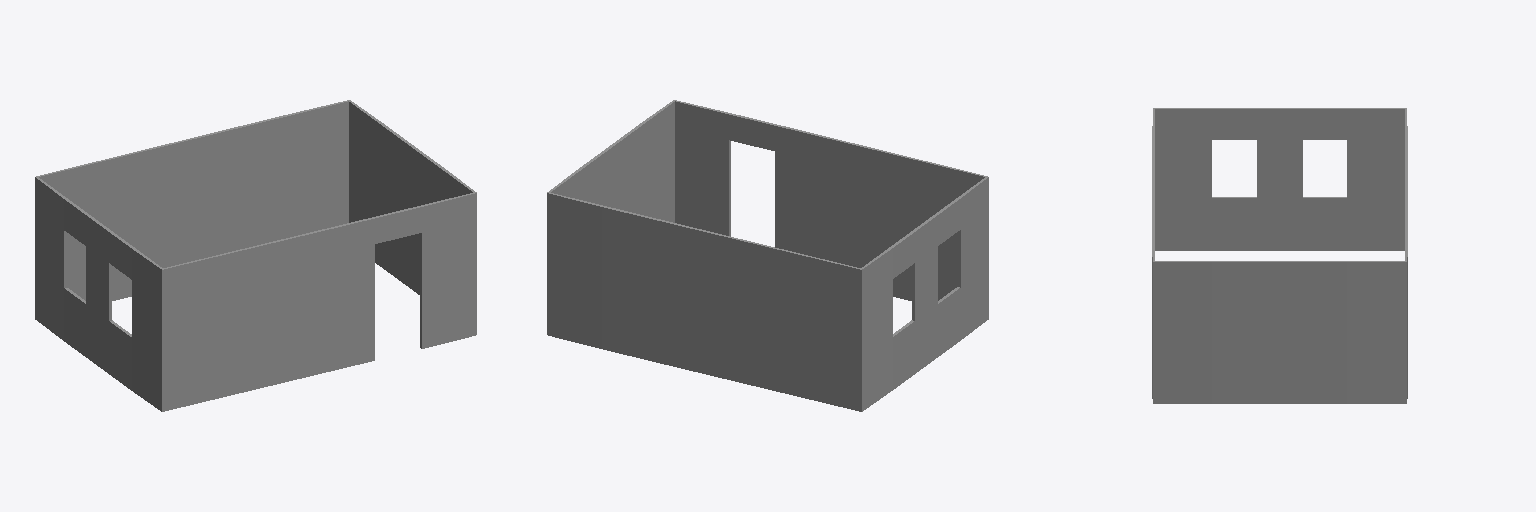
File: walls.obj
The picture shows the model from 3 angles: view 1: azimuth 30°, elevation 25°; view 2: azimuth 150°, elevation 25°; view 3: azimuth 270°, elevation 25°; orthographic projection.
Visible parts, largest first — view 1: Plane.007_Plane.028; view 2: Plane.007_Plane.028; view 3: Plane.007_Plane.028.
Boxes of the visible parts, box(x1,y1,x2,y2) form: Plane.007_Plane.028: box(35, 100, 476, 411); Plane.007_Plane.028: box(547, 100, 988, 411); Plane.007_Plane.028: box(1152, 108, 1407, 403).
Size of the model in its own units: 5.94 by 2.55 by 4.17.